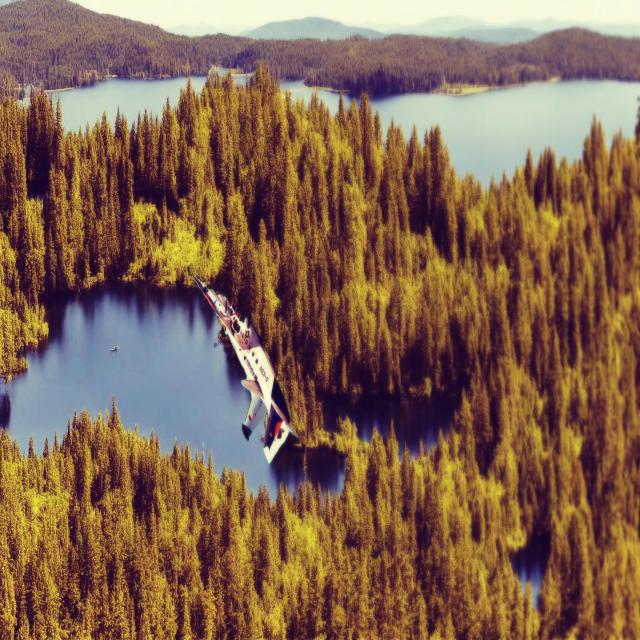airplane: (192, 274, 299, 464)
